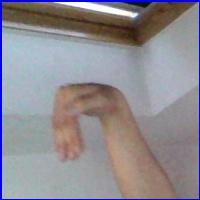del: (53, 78, 141, 172)
